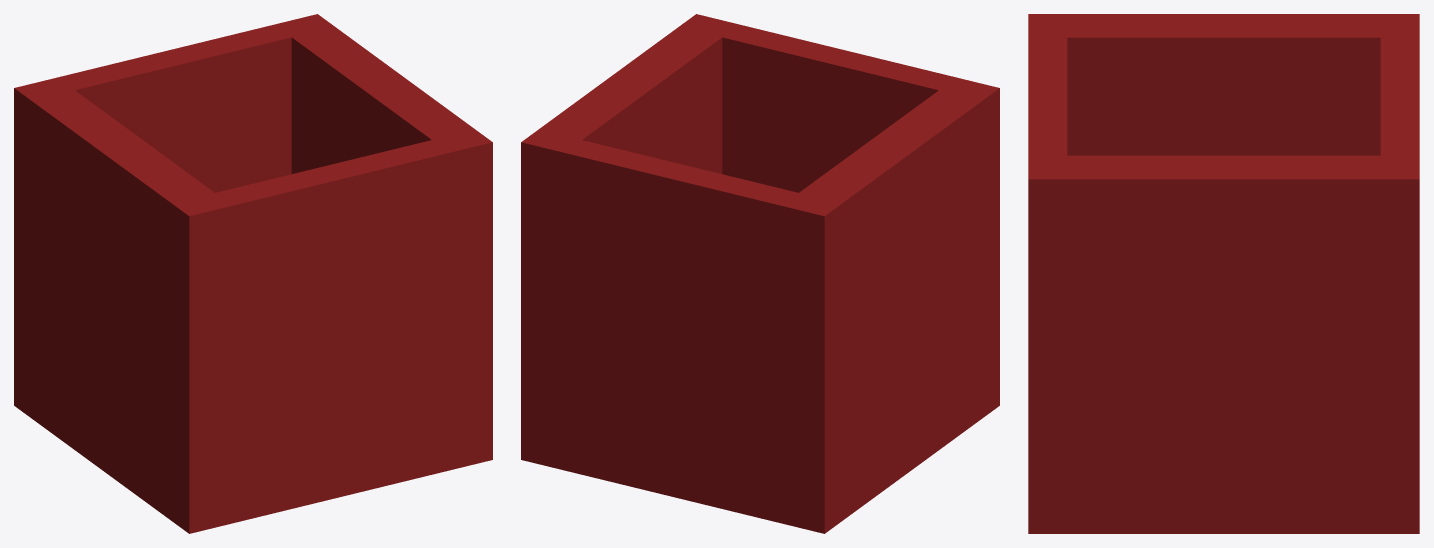
Rendered from Eske.FBX.
3 renders of one model, left to right at view 1: azimuth 30°, elevation 25°; view 2: azimuth 150°, elevation 25°; view 3: azimuth 270°, elevation 25°, orthographic. The views are drawn at different scales.
Parts seen in each view (by area): view 1: Box001; view 2: Box001; view 3: Box001.
Boxes of the visible parts, <box> form: Box001: <box>14,14,492,533</box>; Box001: <box>521,14,999,533</box>; Box001: <box>1028,14,1419,533</box>.
Bounding box in the file's own units: 1 × 1 × 1.
